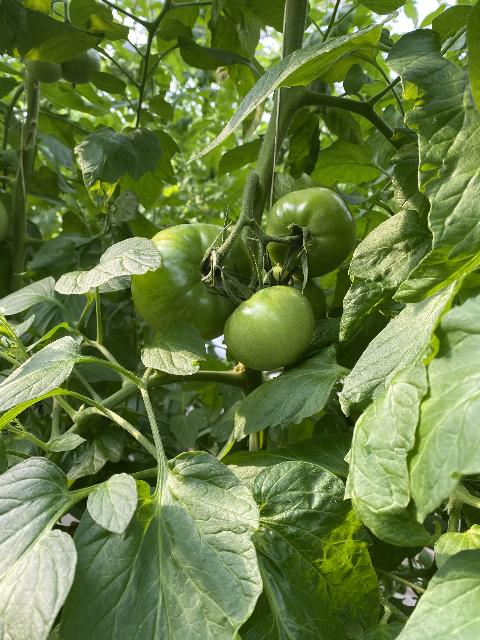b_green: (131, 224, 256, 343), (264, 188, 357, 277), (224, 285, 317, 371), (255, 267, 327, 333)
